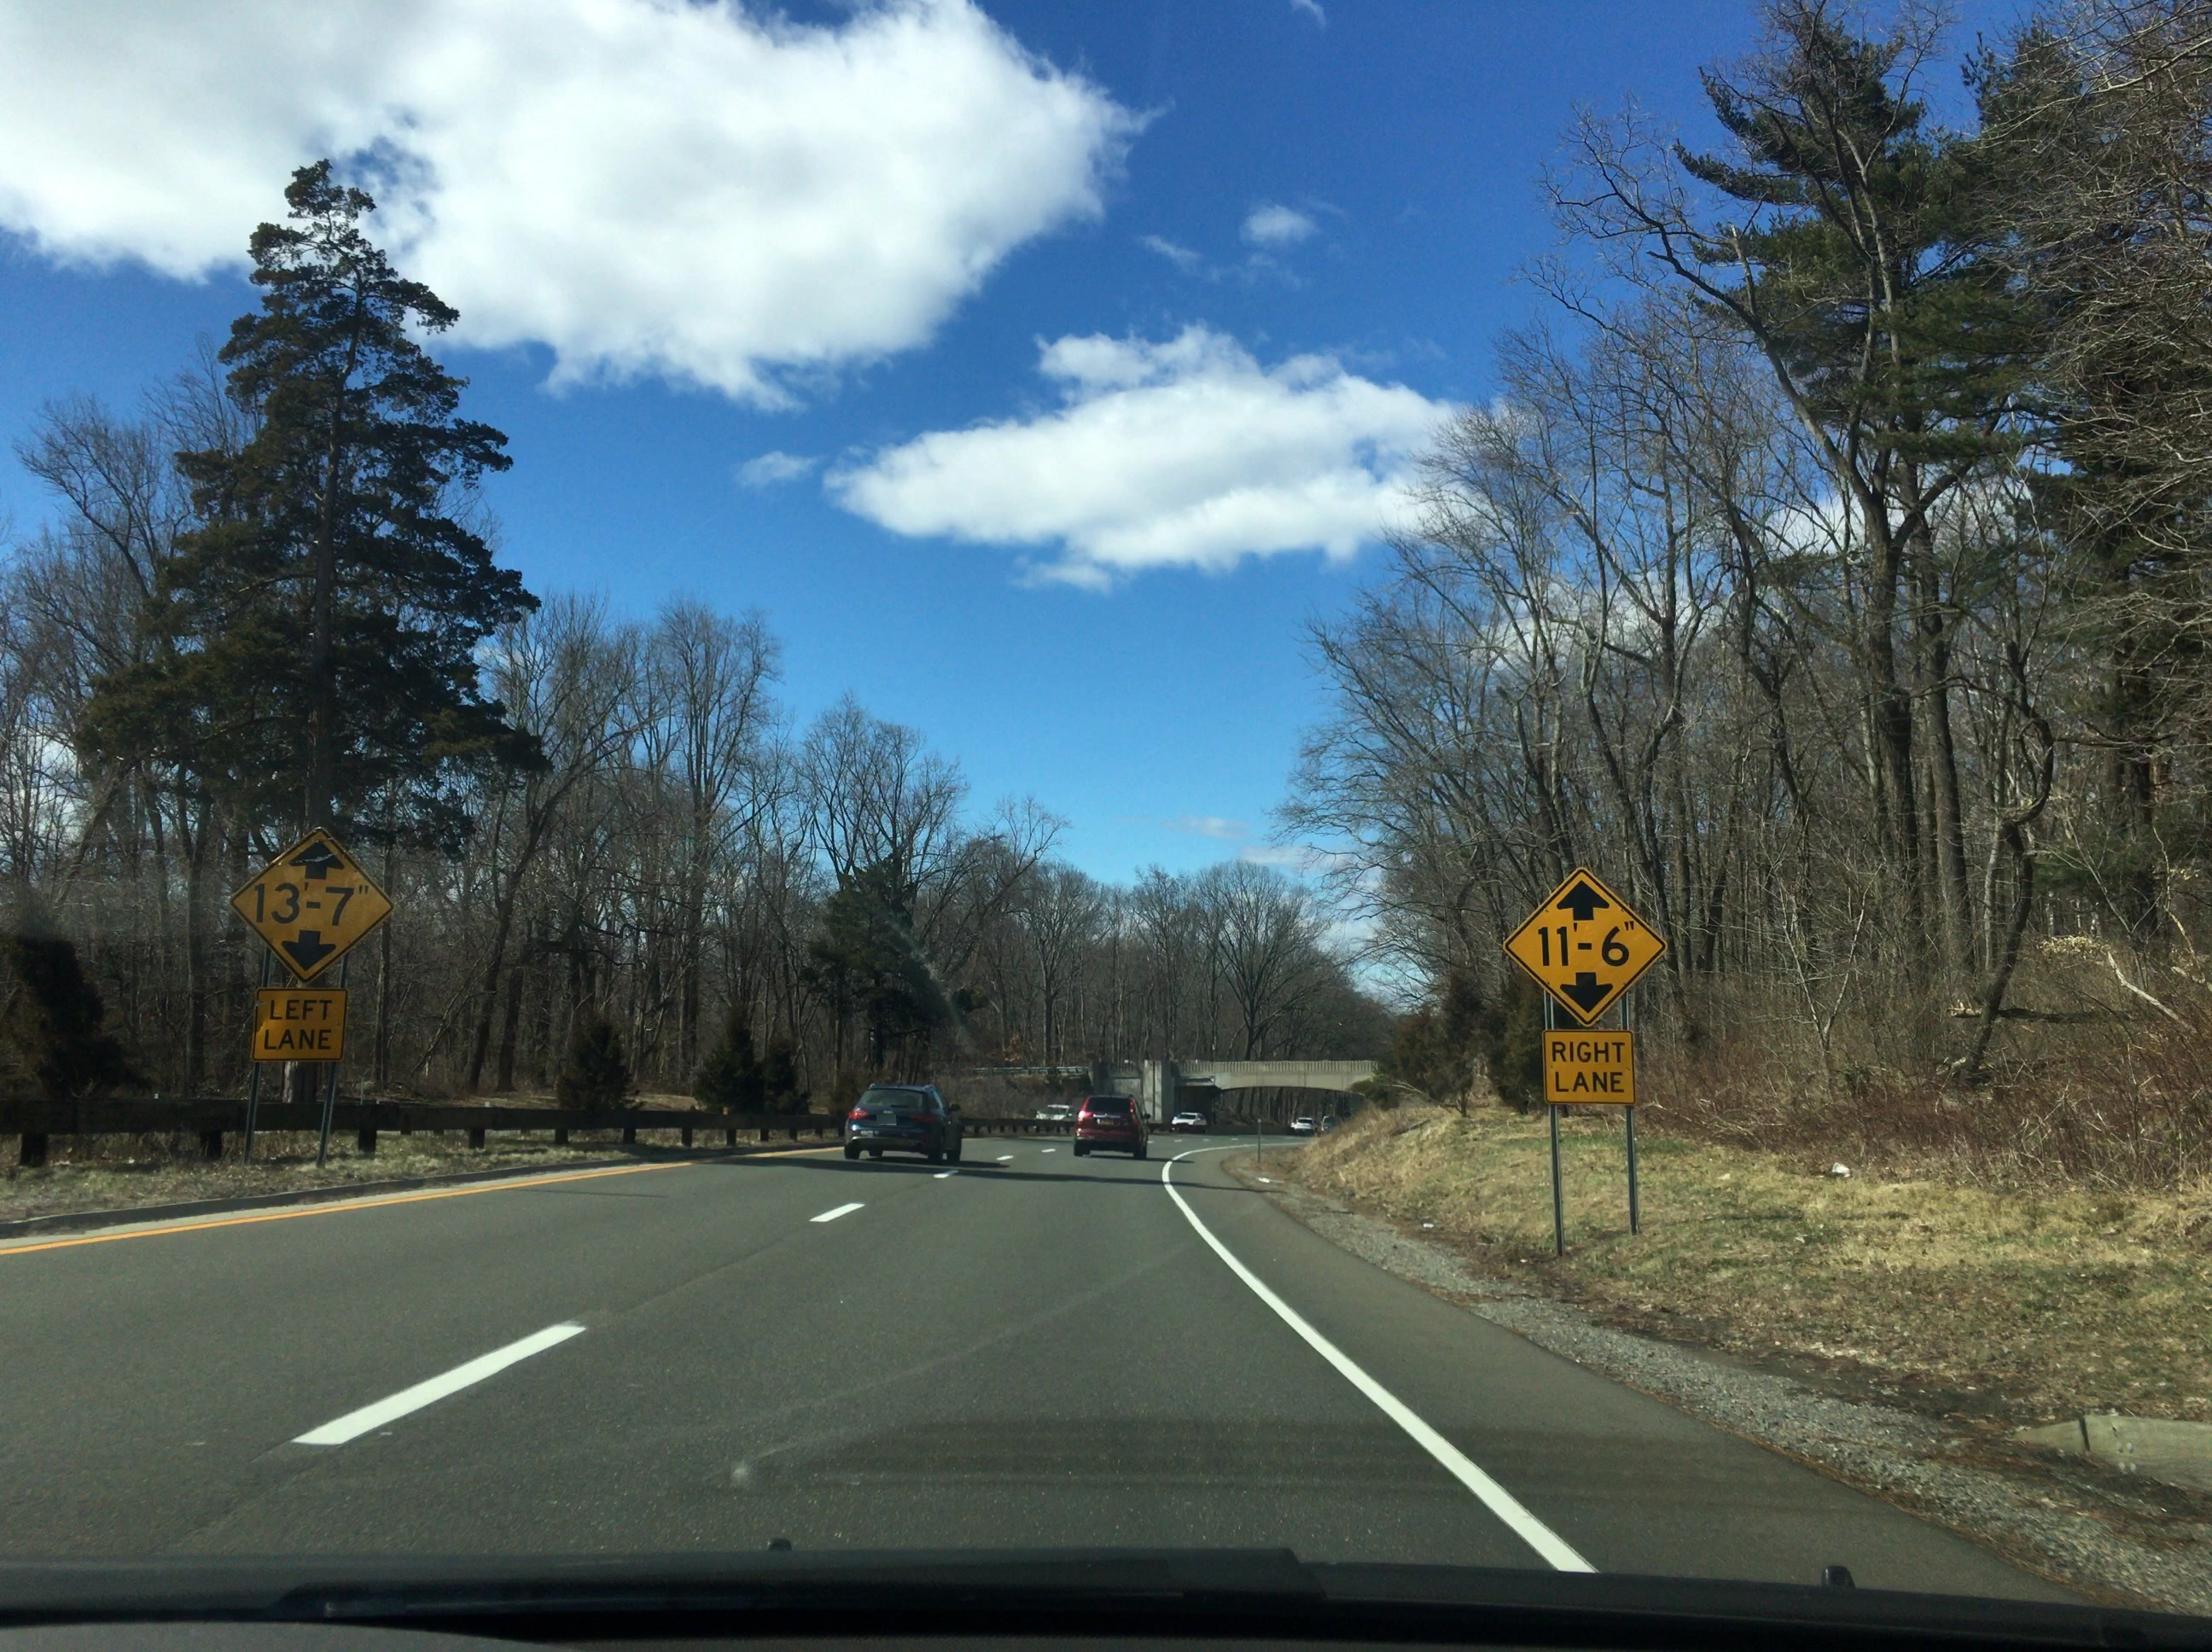low-clearance-sign: (1502, 866, 1669, 1027), (227, 826, 396, 984)
